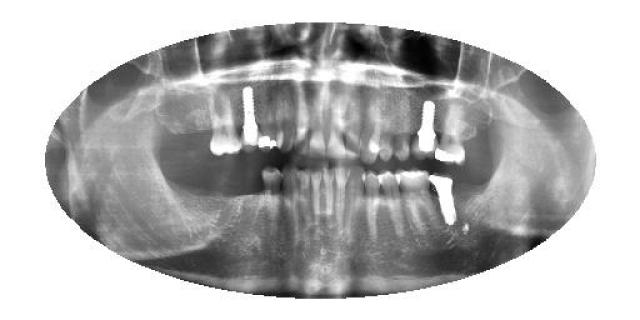Fillings: (436, 107, 466, 165), (259, 87, 276, 155)
Implant: (411, 99, 439, 160), (430, 170, 458, 228), (239, 85, 260, 154)
